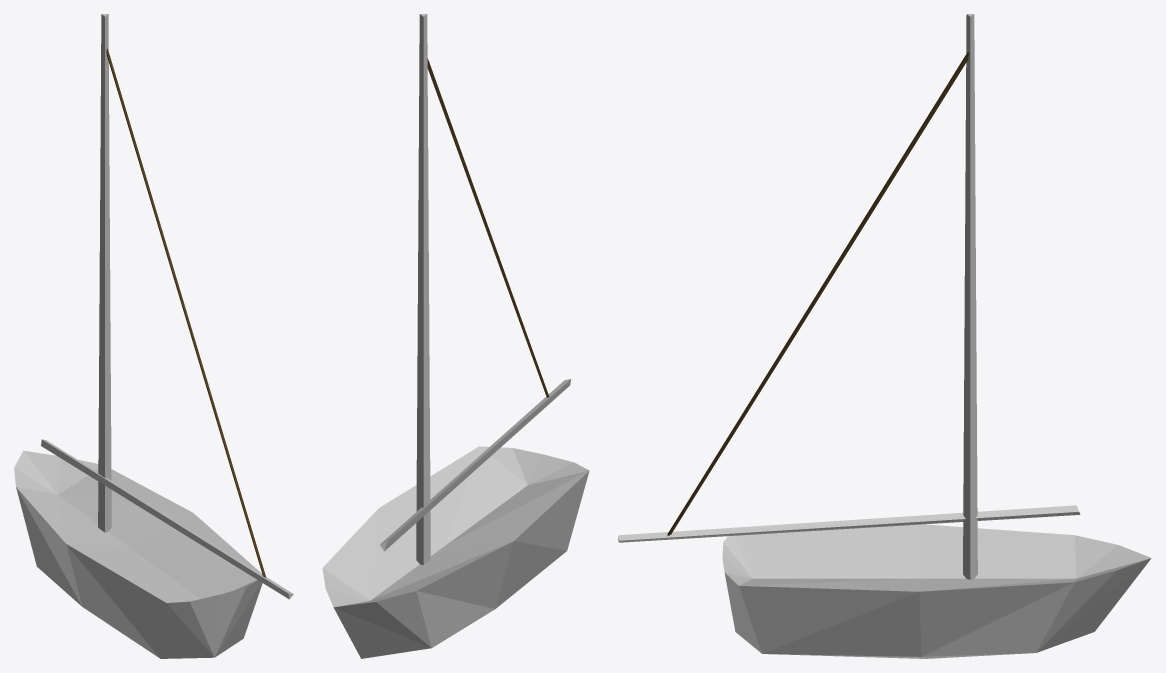
The model's file is NW_HARBOUR_SMALL_BOAT_03.OBJ.
3 renders of one model, left to right at view 1: azimuth 30°, elevation 25°; view 2: azimuth 150°, elevation 25°; view 3: azimuth 270°, elevation 25°, orthographic. The views are drawn at different scales.
Parts seen in each view (by area): view 1: NW_HARBOUR_SMALL_BOAT_03; view 2: NW_HARBOUR_SMALL_BOAT_03; view 3: NW_HARBOUR_SMALL_BOAT_03.
Part boxes in pixels (left/top/right/bottom): NW_HARBOUR_SMALL_BOAT_03: left=14, top=14, right=293, bottom=658; NW_HARBOUR_SMALL_BOAT_03: left=322, top=14, right=589, bottom=658; NW_HARBOUR_SMALL_BOAT_03: left=618, top=14, right=1151, bottom=658.
Bounding box in the file's own units: 3.02 × 13.38 × 10.05.
